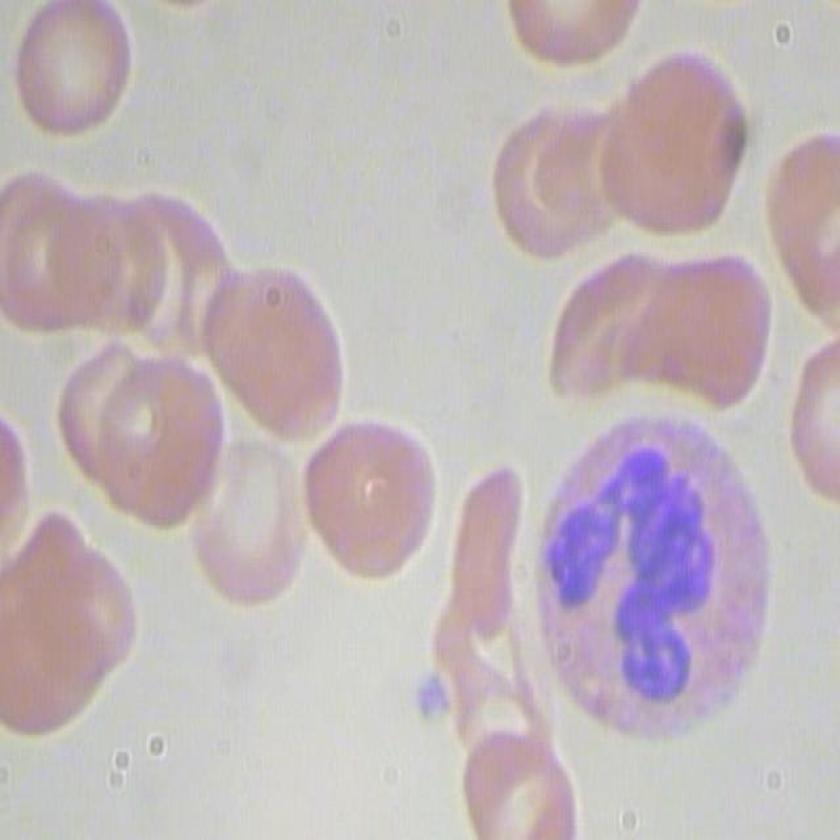eosinophil: (530, 404, 773, 745)
